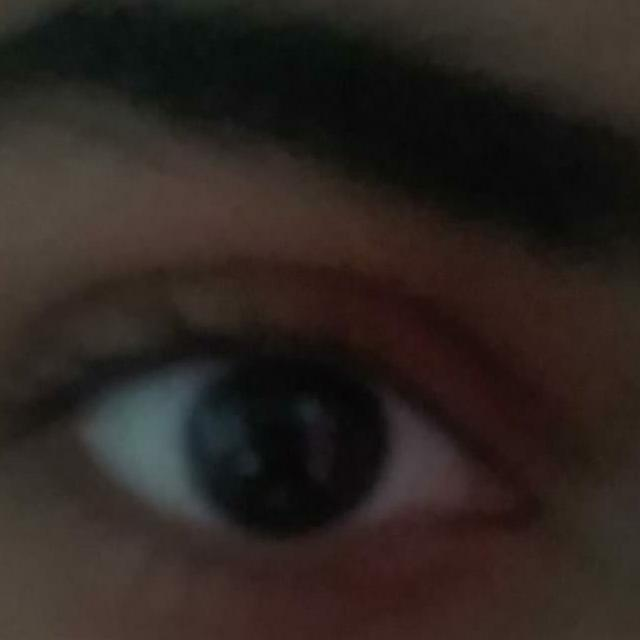eye: (69, 347, 480, 548)
iris: (185, 360, 392, 531)
